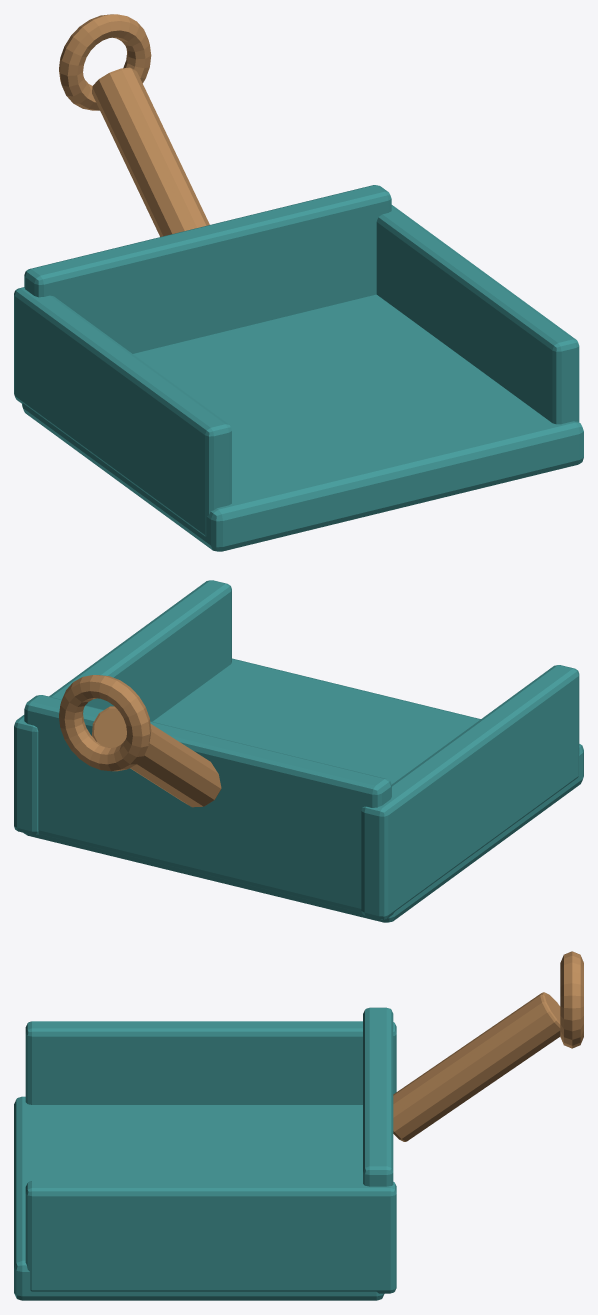
The model's file is P099_dustpan.glb.
3 renders of one model, top to bottom at view 1: azimuth 30°, elevation 25°; view 2: azimuth 150°, elevation 25°; view 3: azimuth 270°, elevation 25°, orthographic. The views are drawn at different scales.
Parts seen in each view (by area): view 1: P099_pan_001, P099_back_004, P099_side_002, P099_side_003, P099_handle_005, P099_loop_006; view 2: P099_back_004, P099_side_002, P099_pan_001, P099_side_003, P099_loop_006, P099_handle_005; view 3: P099_side_003, P099_pan_001, P099_side_002, P099_handle_005, P099_back_004, P099_loop_006.
Part boxes in pixels (bbox=[...]): P099_pan_001: bbox=[22, 294, 583, 551]; P099_back_004: bbox=[24, 185, 391, 353]; P099_side_002: bbox=[14, 287, 231, 536]; P099_side_003: bbox=[376, 205, 579, 424]; P099_handle_005: bbox=[92, 67, 209, 236]; P099_loop_006: bbox=[59, 14, 151, 110]; P099_back_004: bbox=[24, 695, 391, 912]; P099_side_002: bbox=[361, 665, 579, 919]; P099_pan_001: bbox=[24, 658, 583, 922]; P099_side_003: bbox=[14, 580, 231, 834]; P099_loop_006: bbox=[59, 675, 151, 771]; P099_handle_005: bbox=[92, 706, 221, 807]; P099_side_003: bbox=[25, 1181, 396, 1293]; P099_pan_001: bbox=[14, 1096, 384, 1300]; P099_side_002: bbox=[25, 1021, 396, 1104]; P099_handle_005: bbox=[393, 992, 560, 1141]; P099_back_004: bbox=[363, 1007, 393, 1186]; P099_loop_006: bbox=[560, 951, 583, 1048].
Size of the model in its own units: 0.241 by 0.172 by 0.338.
